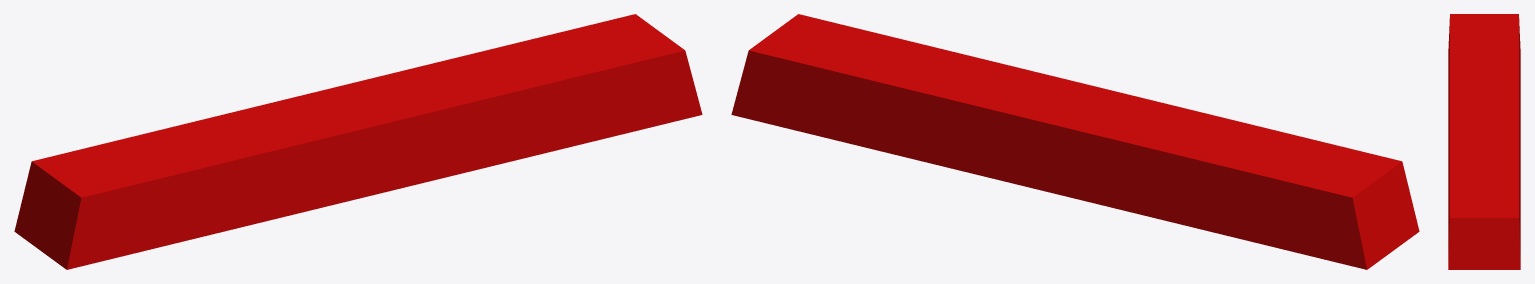
The model's file is button2.glb.
3 views of the same model, side by side, from view 1: azimuth 30°, elevation 25°; view 2: azimuth 150°, elevation 25°; view 3: azimuth 270°, elevation 25° (orthographic). The views are drawn at different scales.
Parts seen in each view (by area): view 1: Button2; view 2: Button2; view 3: Button2.
Part boxes in pixels (<box>): Button2: <box>14,14,702,269</box>; Button2: <box>731,14,1419,269</box>; Button2: <box>1448,14,1520,269</box>.
Bounding box in the file's own units: 0.0198 × 0.002 × 0.00282.
